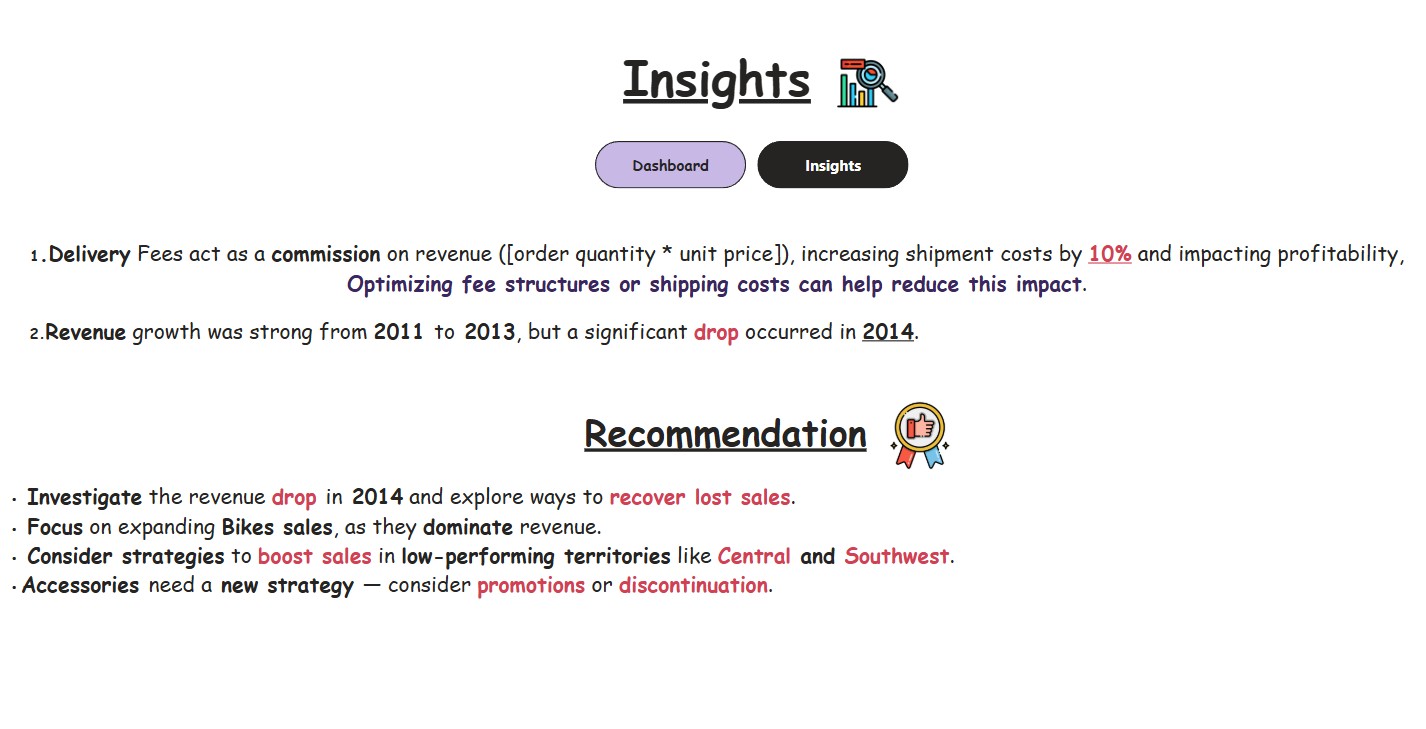

The dashboard page shown, as its layout file describes it:
{"tool":"powerbi","page":{"name":"Insights","canvas":[1280,720],"ordinal":1},"visuals":[{"type":"pageNavigator","box":[532,129.5,278.4,42.6],"z":0},{"type":"textbox","box":[0,37.2,1280.4,78.9],"z":1},{"type":"image","box":[736.8,46.1,74.5,63.8],"z":2},{"type":"textbox","box":[0,210.1,1280.4,149.9],"z":3},{"type":"textbox","box":[15.1,360,1265.3,65.6],"z":4},{"type":"image","box":[782.1,355.6,76.3,70],"z":5},{"type":"textbox","box":[0,425.6,1280.4,149.9],"z":6}]}

Visuals, with their boxes on the page's 1280x720 design canvas (x1, y1, x2, y2). These are canvas units, not pixel positions in the 1426x729 screenshot, which may show the page scaled, cropped or inside an application window:
pageNavigator: [532,130,810,172]
textbox: [0,37,1280,116]
image: [737,46,811,110]
textbox: [0,210,1280,360]
textbox: [15,360,1280,426]
image: [782,356,858,426]
textbox: [0,426,1280,576]
